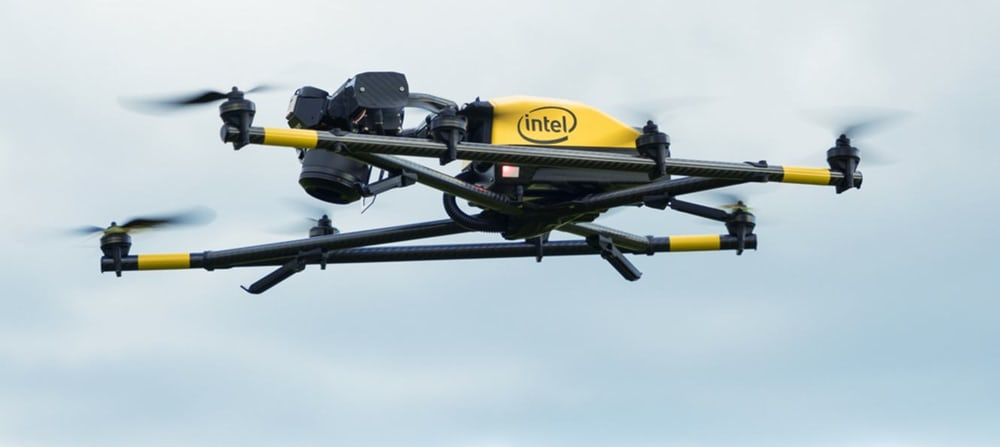drone: (25, 59, 932, 299)
